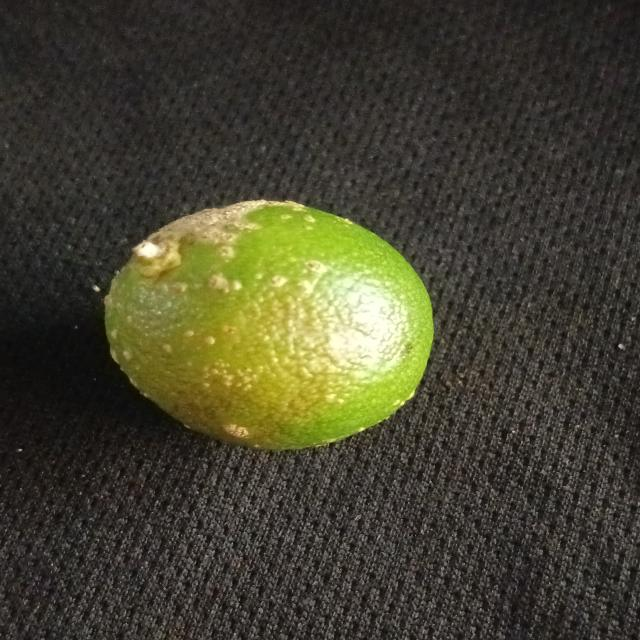scab: (97, 202, 443, 457)
